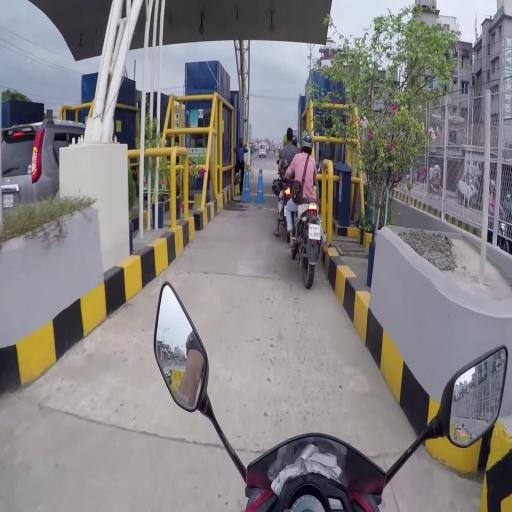motorbike: (157, 274, 506, 512), (289, 133, 324, 292), (489, 180, 511, 260), (278, 137, 293, 241)
rickshaw: (429, 166, 443, 202)
suv: (3, 123, 61, 205), (45, 117, 81, 142), (457, 171, 479, 209)
van: (259, 144, 268, 158)
